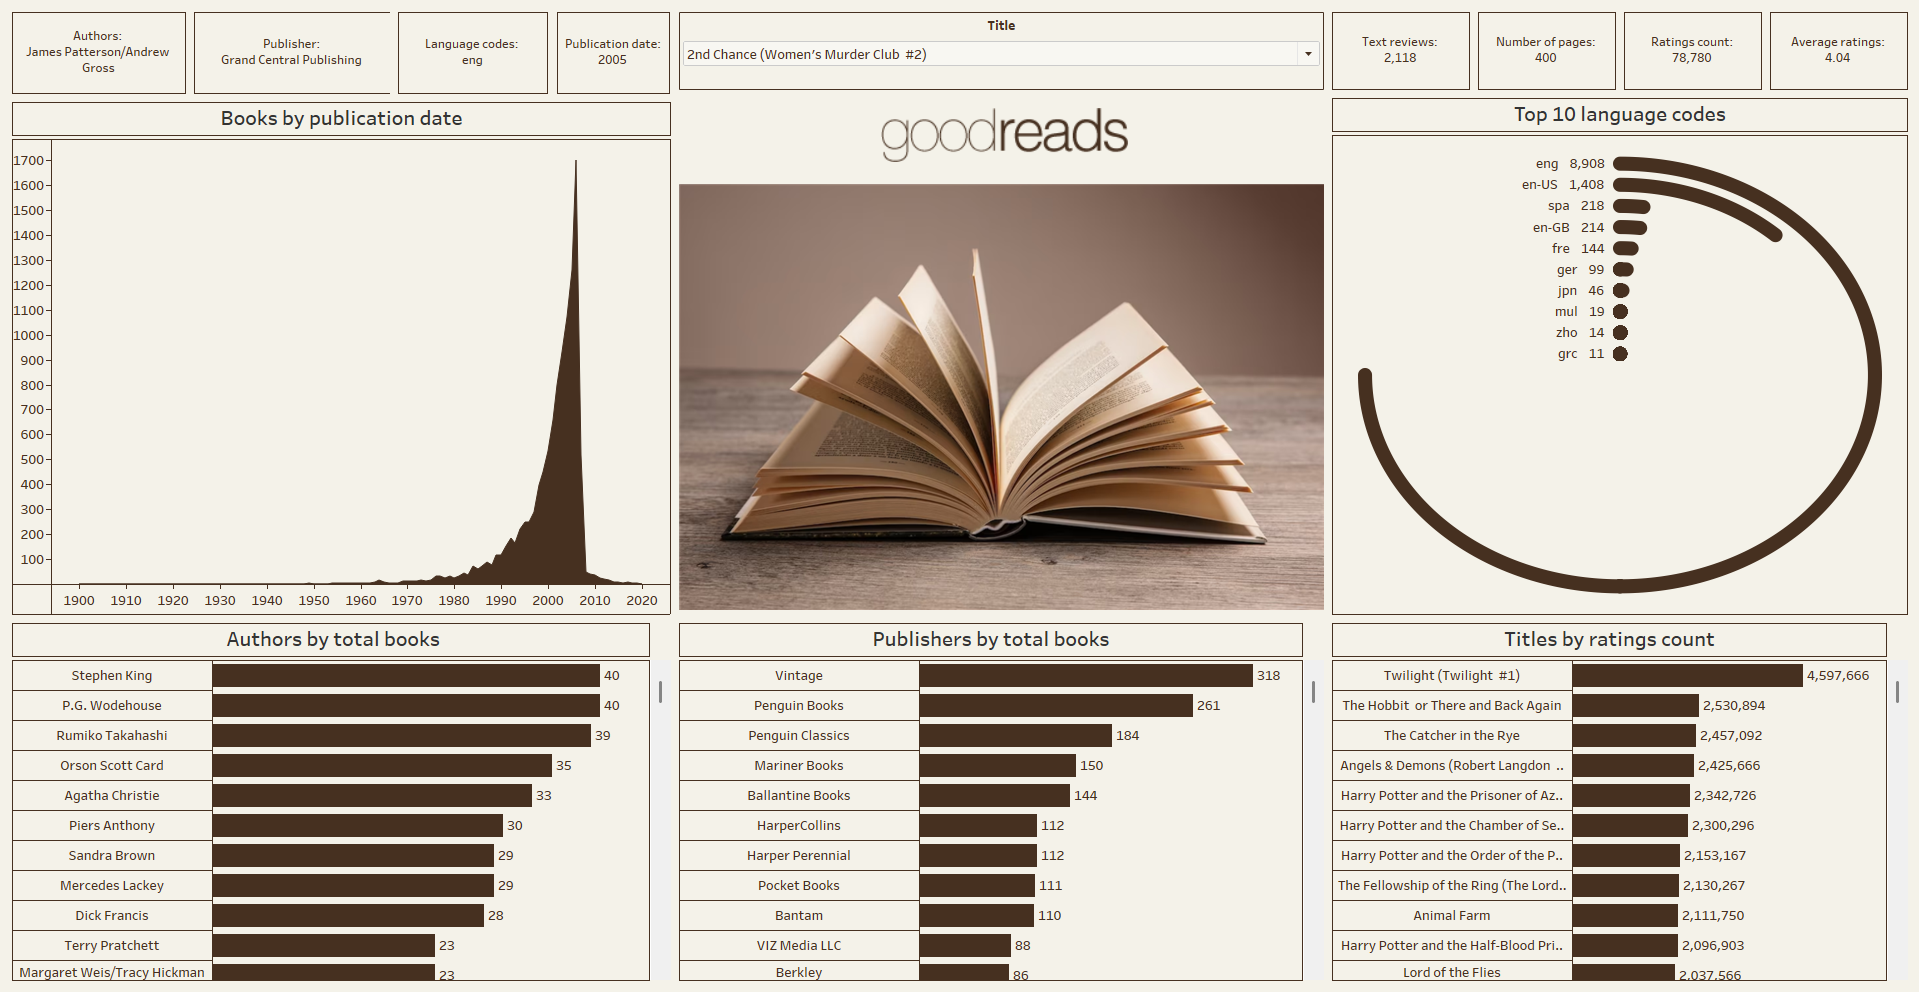

The page's visual inventory and layout, read from the dashboard file:
{"tool":"tableau","page":{"name":"Dashboard 1","canvas":[1000,1000],"units":"permille","ordinal":0},"visuals":[{"type":"worksheet","title":"Authors","mark":"Automatic","box":[4.8,10,94.5,89.9]},{"type":"worksheet","title":"Publisher","mark":"Automatic","box":[99.3,10,106.5,89.9]},{"type":"worksheet","title":"Language codes","mark":"Automatic","box":[205.8,10,82.4,89.9]},{"type":"worksheet","title":"Publication date","mark":"Automatic","box":[288.2,10,63.7,89.9]},{"type":"filter","title":"Authors","param":"[federated.1vylifj08p8zws1eg0qcu0ypqzh7].[none:title:nk]","box":[351.8,10,339.8,86.1]},{"type":"worksheet","title":"Text reviews","mark":"Automatic","box":[691.6,10,75.9,86.1]},{"type":"worksheet","title":"Number of pages","mark":"Automatic","box":[767.5,10,75.9,86.1]},{"type":"worksheet","title":"Ratings count","mark":"Automatic","box":[843.4,10,75.9,86.1]},{"type":"worksheet","title":"Average ratings","mark":"Automatic","box":[919.3,10,75.9,86.1]},{"type":"image","param":"C:/Users/User/Downloads/Capture.PNG","box":[351.8,96.1,339.8,81.2]},{"type":"worksheet","title":"Top 10 language codes","mark":"Line","box":[691.6,96.1,303.6,526.8]},{"type":"worksheet","title":"Books by publication date","mark":"Area","rows":["bookID"],"cols":["publication_date"],"box":[4.8,99.9,347,523.1]},{"type":"image","param":"C:/Users/User/Downloads/book.PNG","box":[351.8,177.3,339.8,445.7]},{"type":"worksheet","title":" Authors by total books","mark":"Automatic","rows":["authors"],"cols":["bookID"],"box":[4.8,623,347,367]},{"type":"worksheet","title":"Publishers by total books","mark":"Automatic","rows":["publisher"],"cols":["bookID"],"box":[351.8,623,339.8,367]},{"type":"worksheet","title":"Titles by ratings count","mark":"Automatic","rows":["title"],"cols":["Calculation_1365153650319482882"],"box":[691.6,623,303.6,367]}]}

Visuals, with their boxes on the dashboard's canvas, which has no fixed pixel size, in thousandths of its width and height (x1, y1, x2, y2). These are canvas units, not pixel positions in the 1919x992 screenshot, which may show the page scaled, cropped or inside an application window:
"Authors" worksheet: {"left": 5, "top": 10, "right": 99, "bottom": 100}
"Publisher" worksheet: {"left": 99, "top": 10, "right": 206, "bottom": 100}
"Language codes" worksheet: {"left": 206, "top": 10, "right": 288, "bottom": 100}
"Publication date" worksheet: {"left": 288, "top": 10, "right": 352, "bottom": 100}
"Authors" filter: {"left": 352, "top": 10, "right": 692, "bottom": 96}
"Text reviews" worksheet: {"left": 692, "top": 10, "right": 768, "bottom": 96}
"Number of pages" worksheet: {"left": 768, "top": 10, "right": 843, "bottom": 96}
"Ratings count" worksheet: {"left": 843, "top": 10, "right": 919, "bottom": 96}
"Average ratings" worksheet: {"left": 919, "top": 10, "right": 995, "bottom": 96}
image: {"left": 352, "top": 96, "right": 692, "bottom": 177}
"Top 10 language codes" worksheet (Line marks): {"left": 692, "top": 96, "right": 995, "bottom": 623}
"Books by publication date" worksheet (Area marks): {"left": 5, "top": 100, "right": 352, "bottom": 623}
image: {"left": 352, "top": 177, "right": 692, "bottom": 623}
" Authors by total books" worksheet: {"left": 5, "top": 623, "right": 352, "bottom": 990}
"Publishers by total books" worksheet: {"left": 352, "top": 623, "right": 692, "bottom": 990}
"Titles by ratings count" worksheet: {"left": 692, "top": 623, "right": 995, "bottom": 990}
